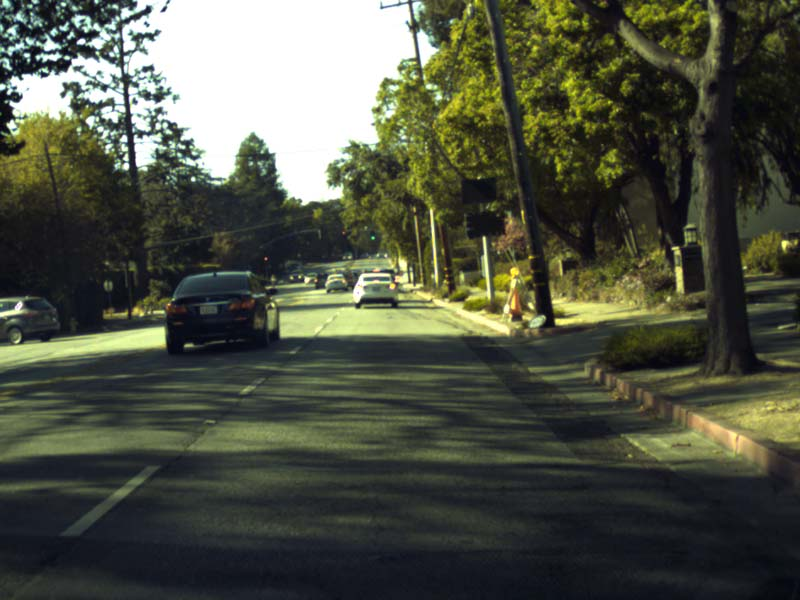Green: (369, 231, 376, 240)
Yellow: (342, 230, 344, 235)
